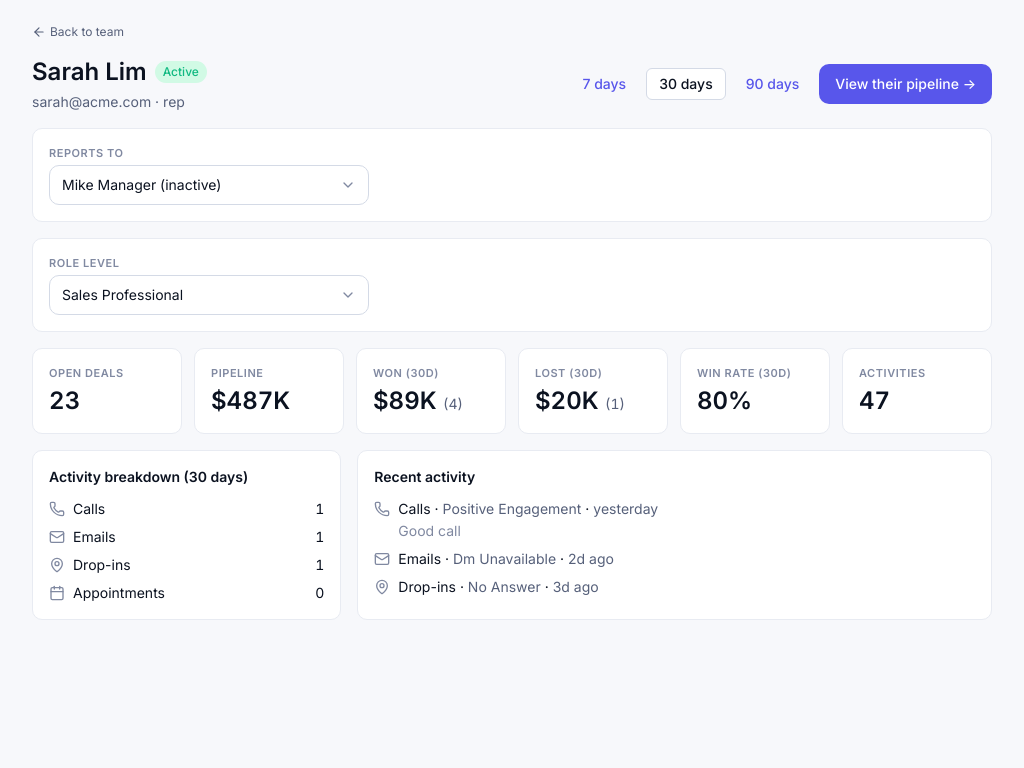
AgentDetailPage / reports-to control › keeps a deactivated current manager visible (Select not blank)
This screenshot has width=1024, height=768.
Step 1. Click the dropdown named "Reports to" → [209, 185], box [49,165,369,205]
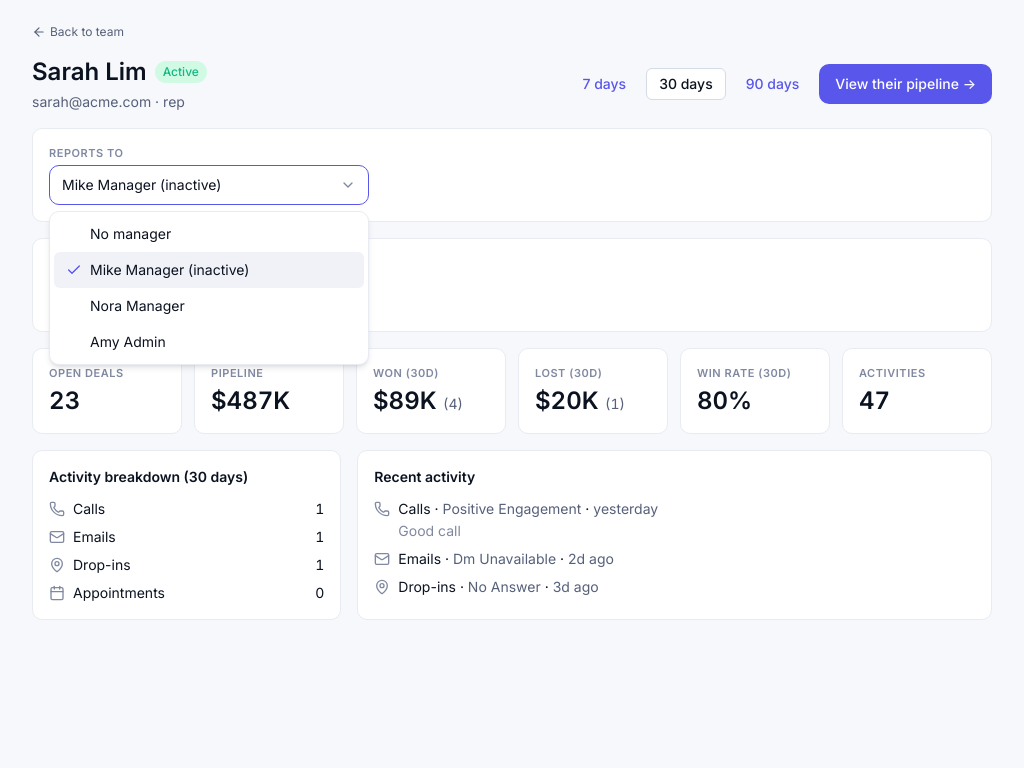
Check: the option "Mike Manager (inactive)" is shown, box [54,252,364,288]
